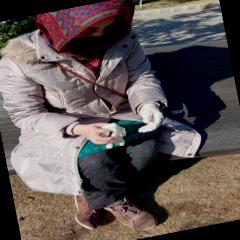gloved: (131, 102, 167, 134)
not-gloved: (70, 118, 116, 150)
